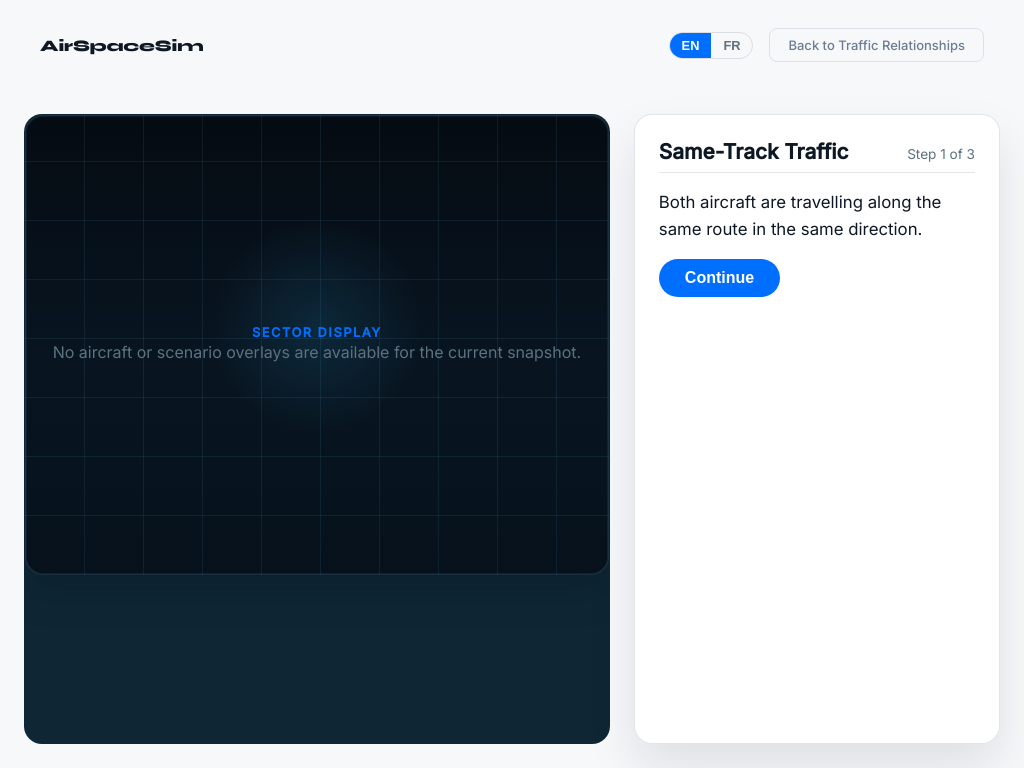
Test: LessonRunnerPage › drives a data-driven lesson through observe, classify, and complete
Expected: the text "Both aircraft are travelling along the same route in the same direction." is shown, [659, 189, 975, 243]
Click the button "Continue" at (719, 278), box [659, 259, 780, 297]
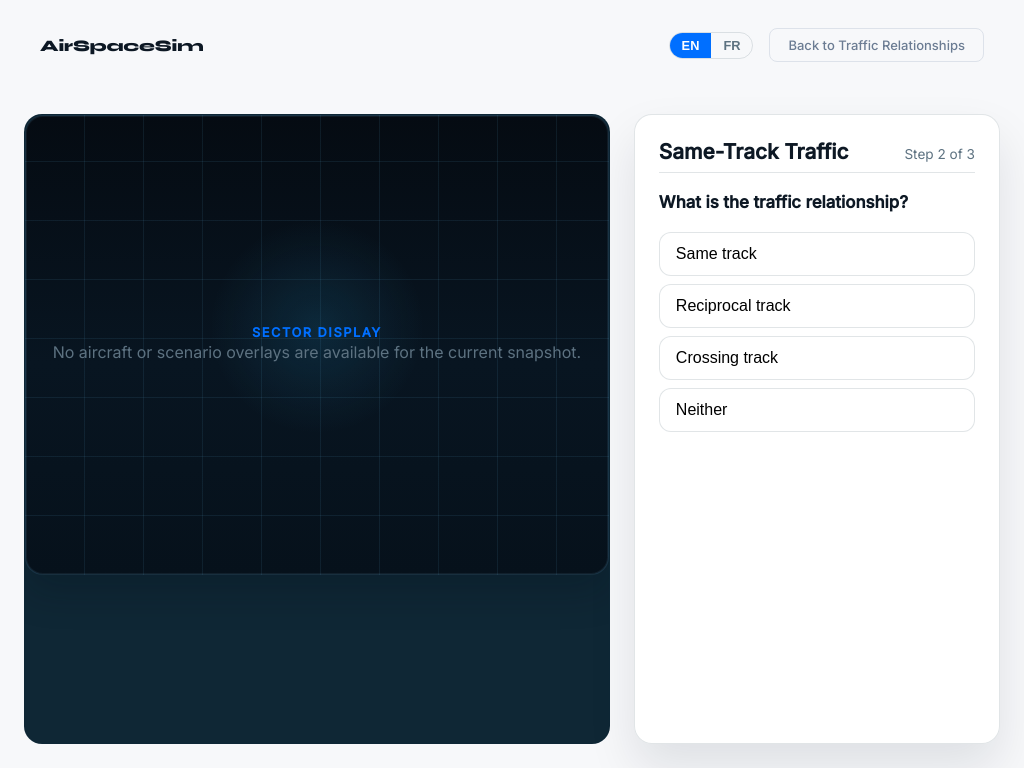
Result: the button "Same track" is shown at [659, 232, 975, 276]
Result: the button "Reciprocal track" is shown
Result: the button "Crossing track" is shown at [659, 336, 975, 380]
Click the button "Reciprocal track" at (733, 305), box [659, 284, 975, 328]
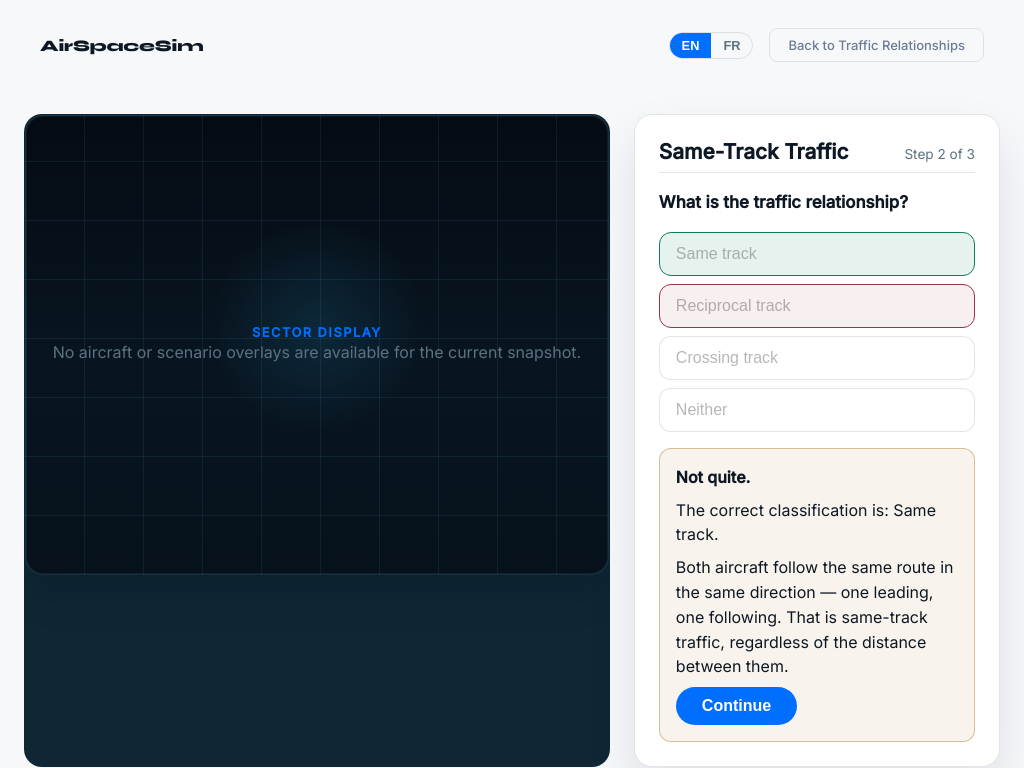
Result: the text "Not quite." is shown at [676, 467, 750, 487]
Result: the text "The correct classification is: Same track." is shown at [676, 498, 958, 547]
Click the button "Continue" at (736, 706), box [676, 687, 797, 725]
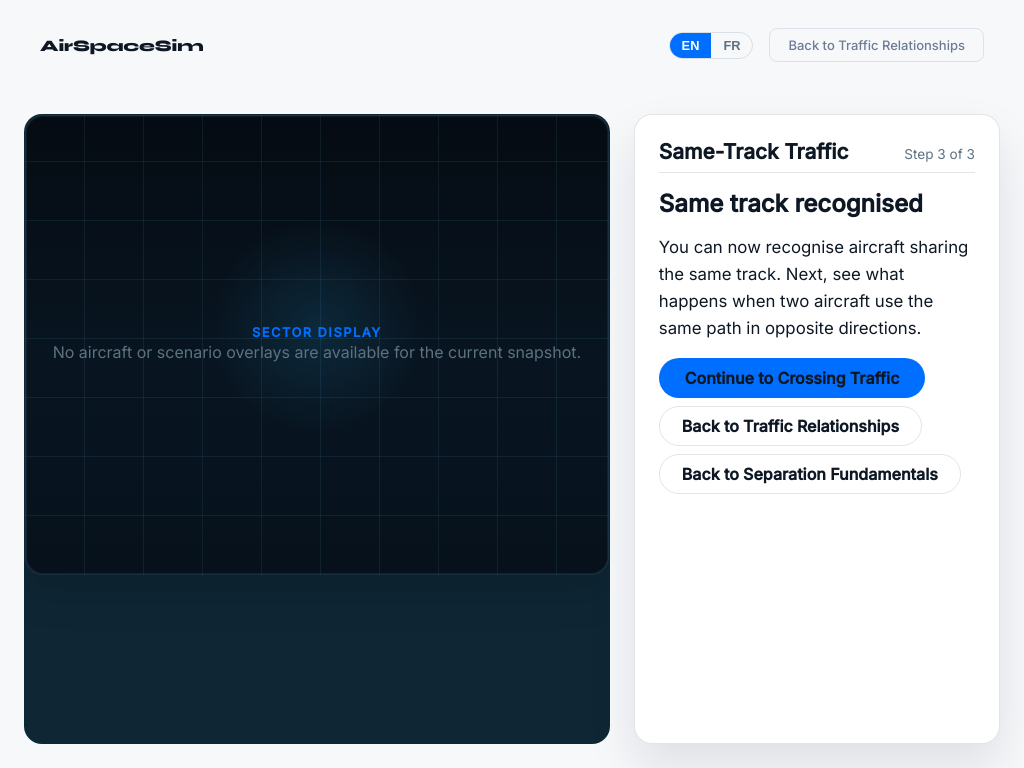
Result: the heading "Same track recognised" is shown at [659, 189, 923, 218]
